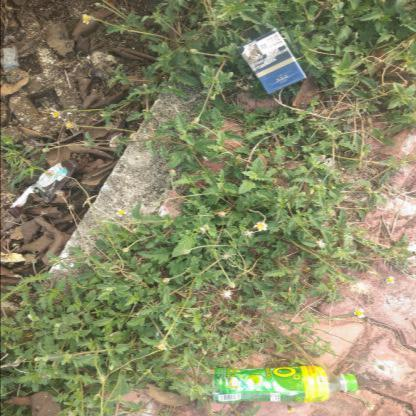Bottle: (345, 375, 358, 392)
Bottle cap: (211, 366, 358, 404)
Carton: (237, 28, 307, 94)
Plastic bag - wrapper: (8, 160, 79, 219), (0, 47, 20, 82), (105, 122, 126, 148)
